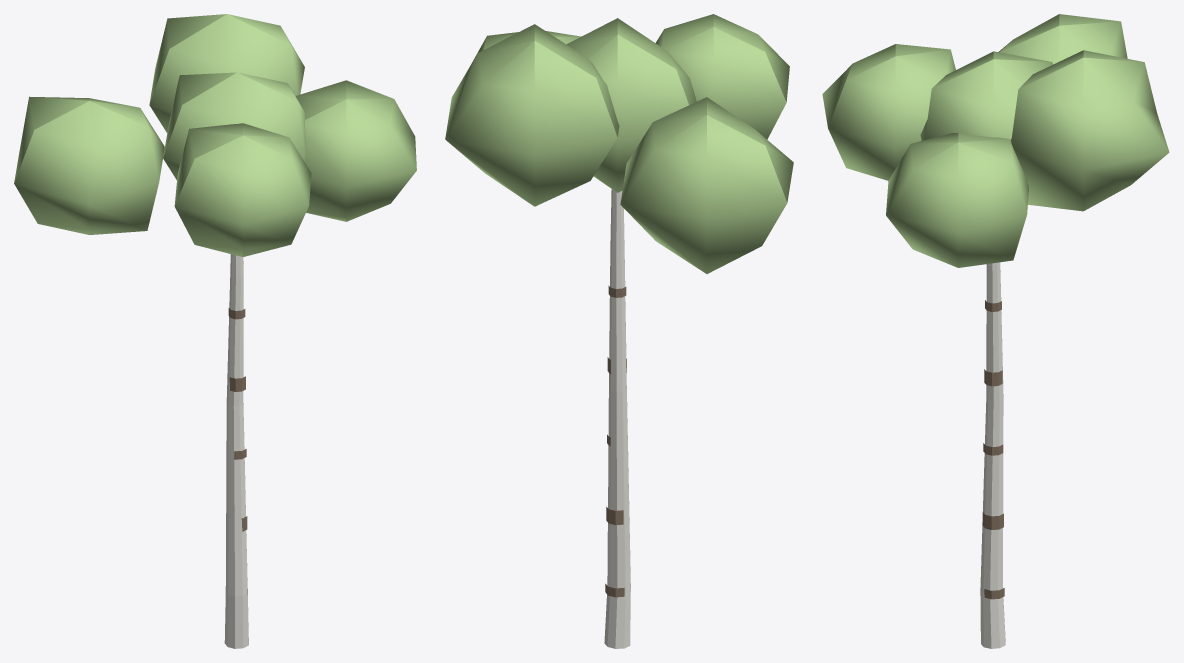
The model's file is birch_young.glb.
3 views of the same model, side by side, from view 1: azimuth 30°, elevation 25°; view 2: azimuth 150°, elevation 25°; view 3: azimuth 270°, elevation 25° (orthographic). The views are drawn at different scales.
Parts seen in each view (by area): view 1: birch-young; view 2: birch-young; view 3: birch-young.
Boxes of the visible parts, x1,y1,x2,y2 form: birch-young: (14, 14, 416, 648); birch-young: (445, 14, 793, 648); birch-young: (822, 14, 1169, 648).
Size of the model in its own units: 2.19 by 3.51 by 1.83.
